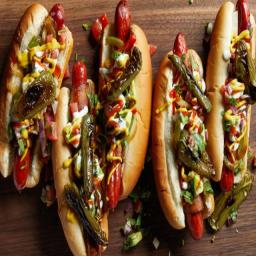hotdog: (154, 26, 217, 242), (90, 0, 153, 213), (1, 0, 71, 187), (208, 0, 256, 235), (56, 57, 109, 253)
